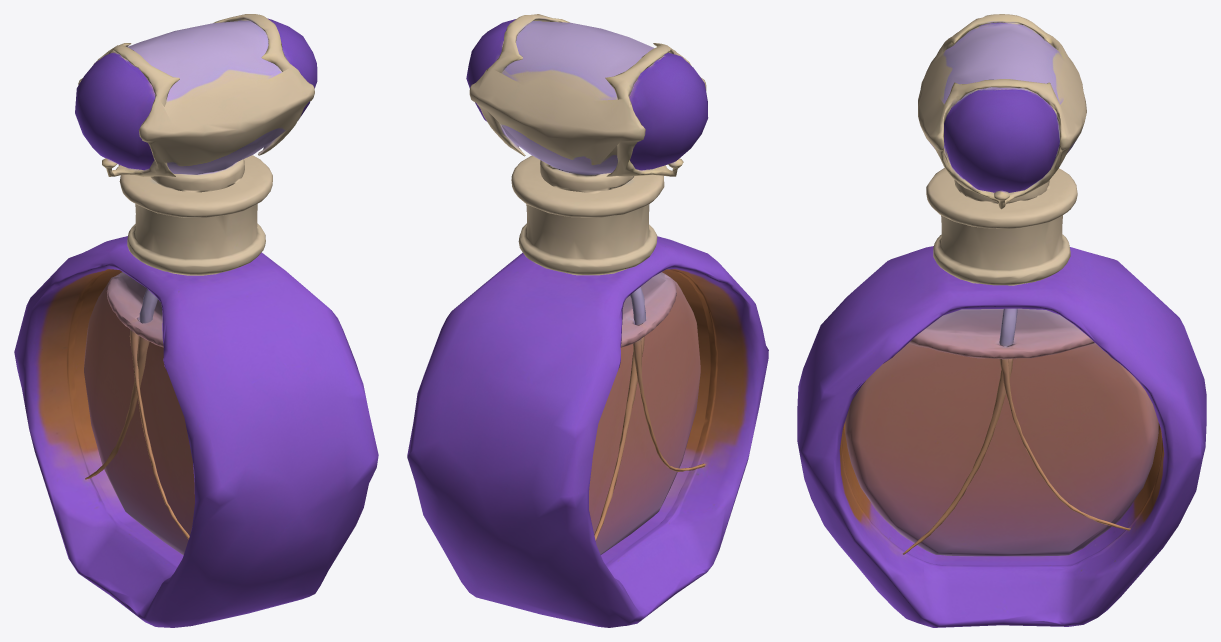
The model's file is r33-perfume.glb.
3 views of the same model, side by side, from view 1: azimuth 30°, elevation 25°; view 2: azimuth 150°, elevation 25°; view 3: azimuth 270°, elevation 25° (orthographic).
Visible parts, largest first — view 1: tripo_node_5ca40b72-20c9-4603-aba9-7904d1c6cbff; view 2: tripo_node_5ca40b72-20c9-4603-aba9-7904d1c6cbff; view 3: tripo_node_5ca40b72-20c9-4603-aba9-7904d1c6cbff.
Part boxes in pixels (x1,y1,x2,y2): tripo_node_5ca40b72-20c9-4603-aba9-7904d1c6cbff: (14,14,378,627); tripo_node_5ca40b72-20c9-4603-aba9-7904d1c6cbff: (407,14,768,627); tripo_node_5ca40b72-20c9-4603-aba9-7904d1c6cbff: (797,14,1206,627).
Bounding box in the file's own units: 0.4355 × 0.998 × 0.6816.
Materials: 1 (1 with a texture image).
